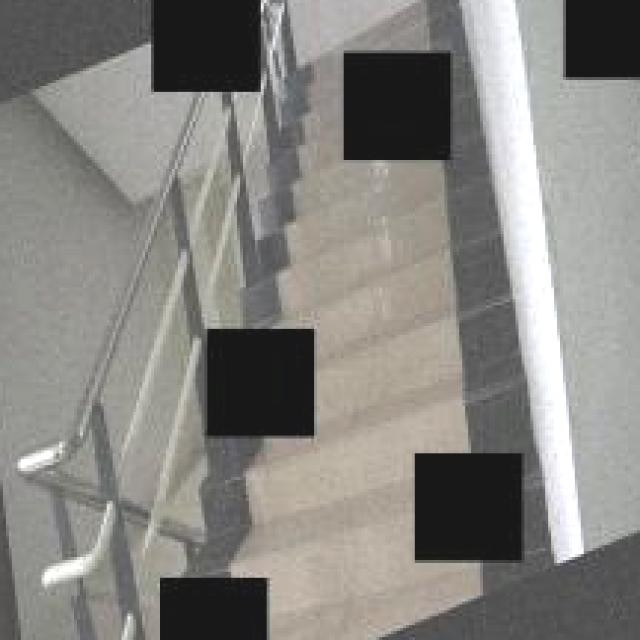upstair: (253, 170, 531, 330)
